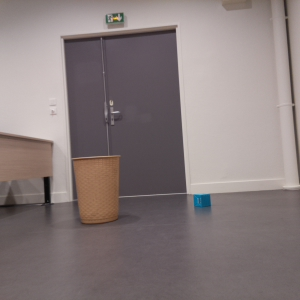medium: (71, 155, 121, 223)
small: (194, 192, 210, 208)
